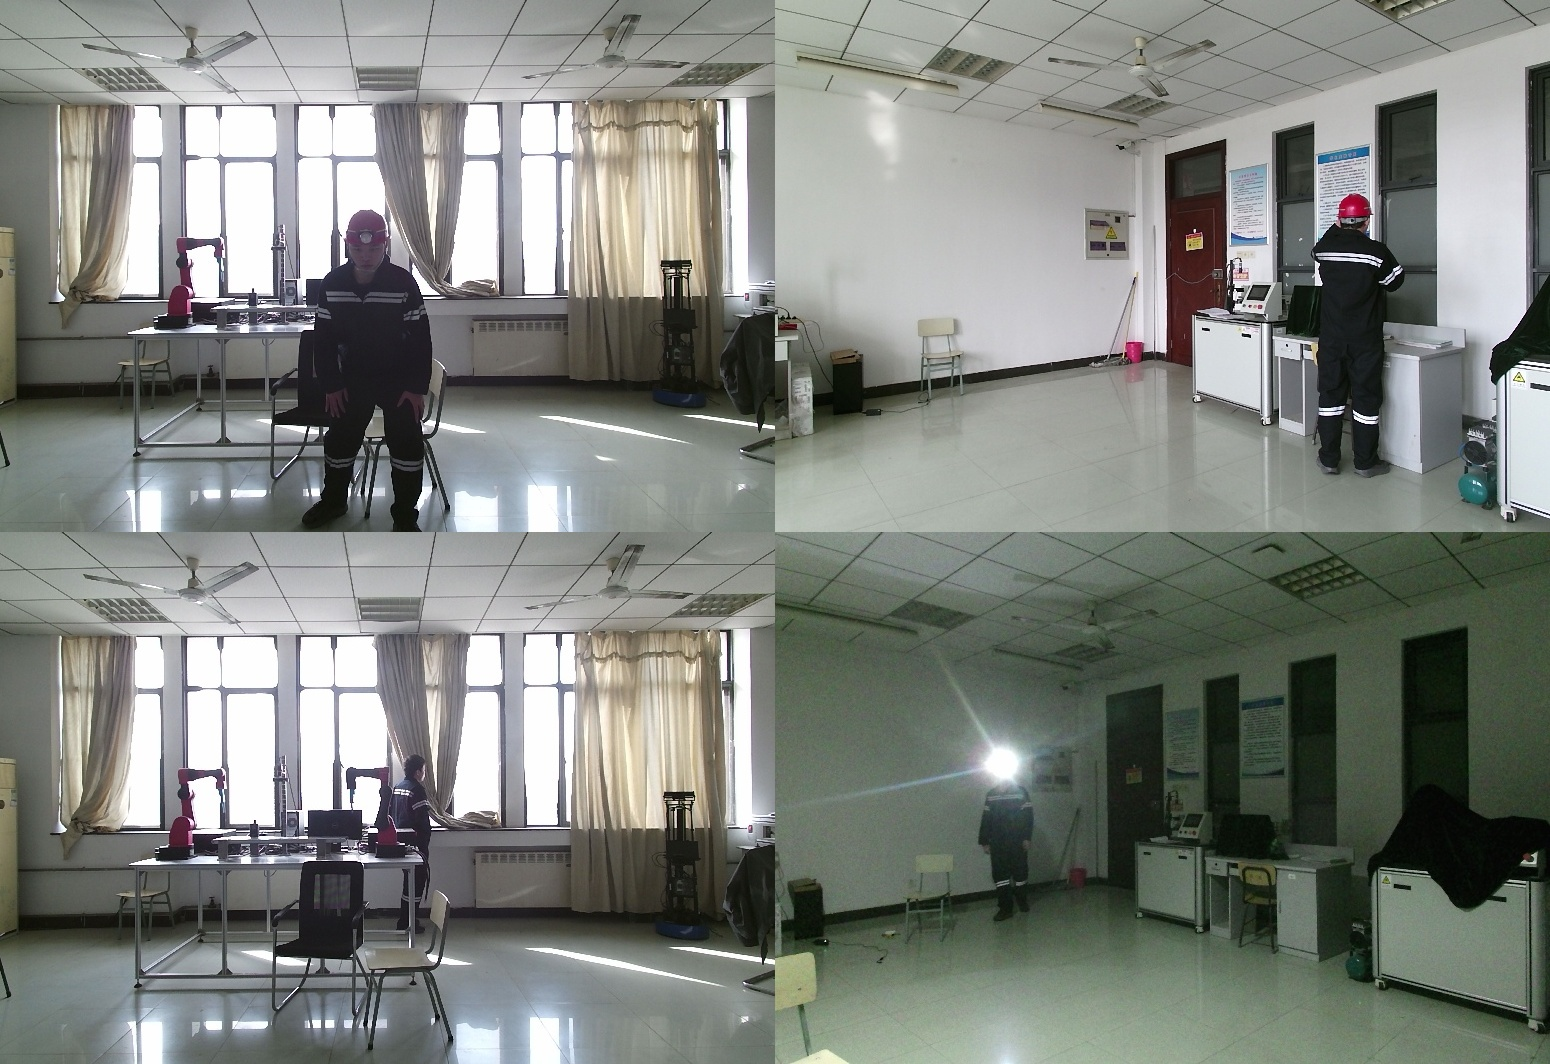person: (308, 211, 451, 532), (1307, 193, 1426, 474), (981, 760, 1038, 928), (394, 754, 440, 945)
